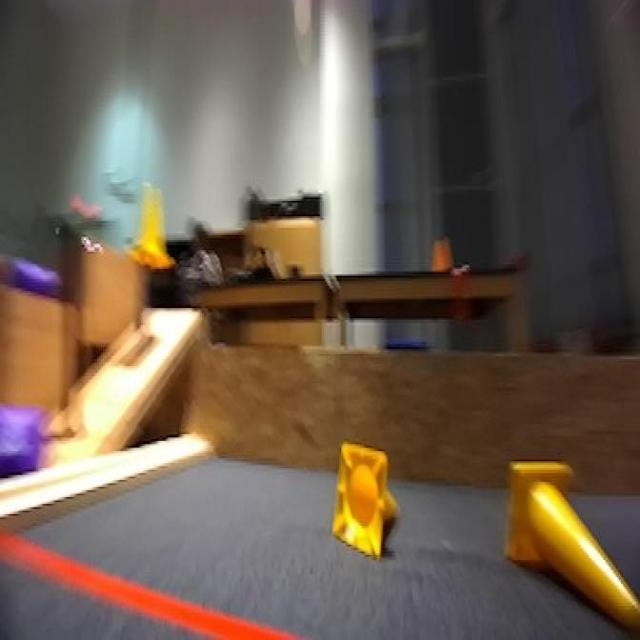frc_cone: (504, 453, 640, 628), (331, 439, 399, 558), (130, 179, 175, 277)
frc_cube: (0, 405, 46, 482), (11, 248, 59, 303)
